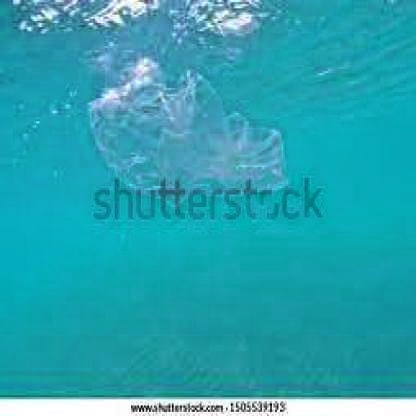pbag: (87, 58, 288, 207)
